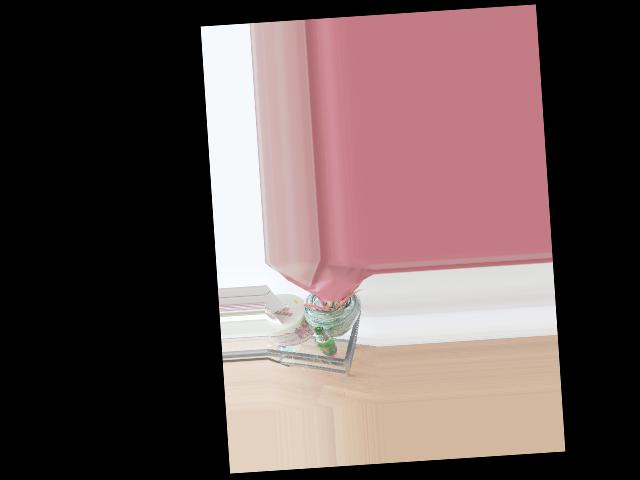beer: (314, 325, 338, 356)
